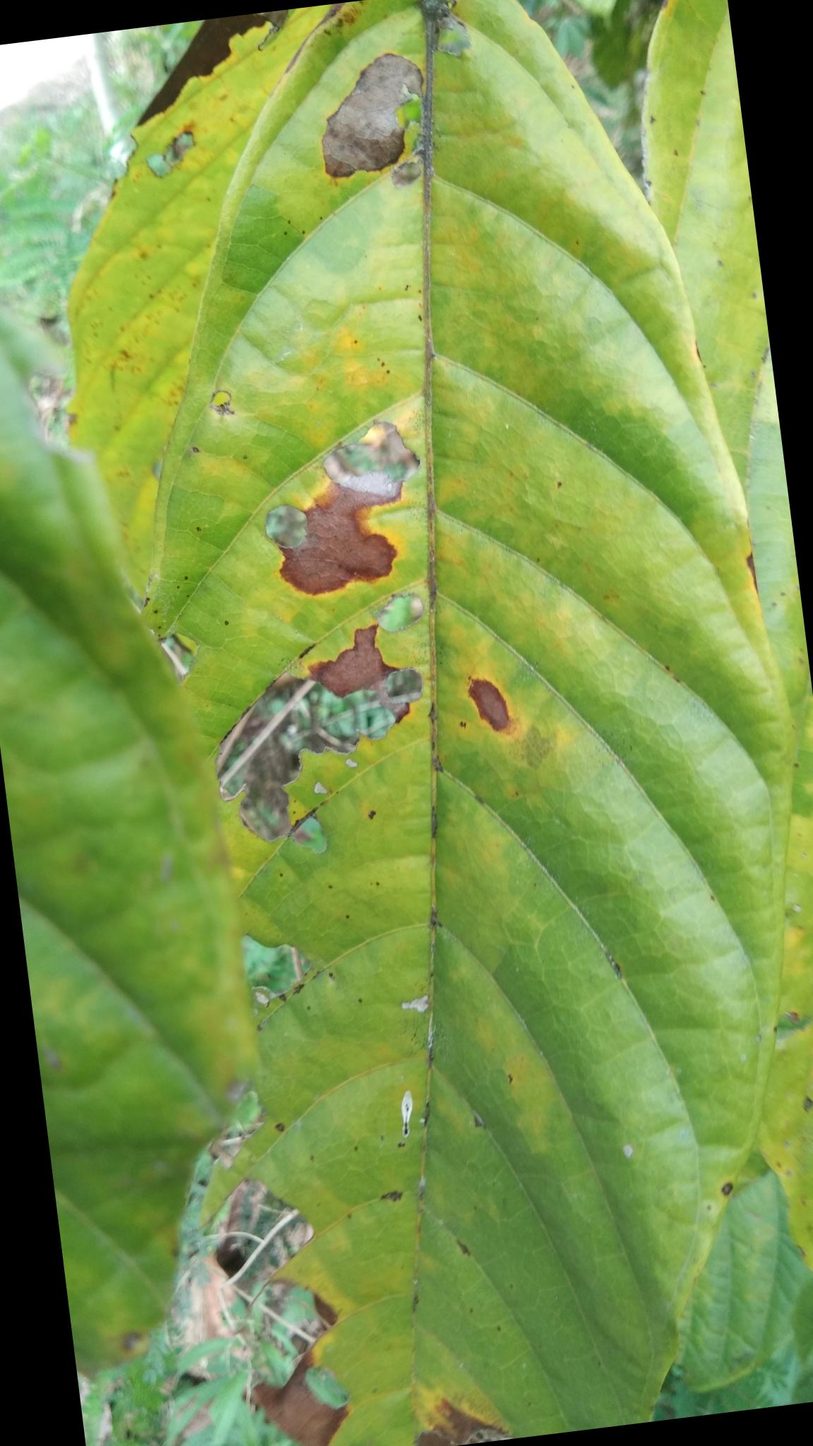Potasio: (148, 0, 803, 1446)
